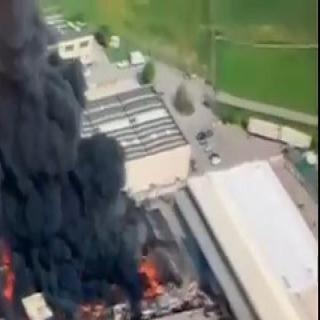smoke: (0, 2, 154, 238)
